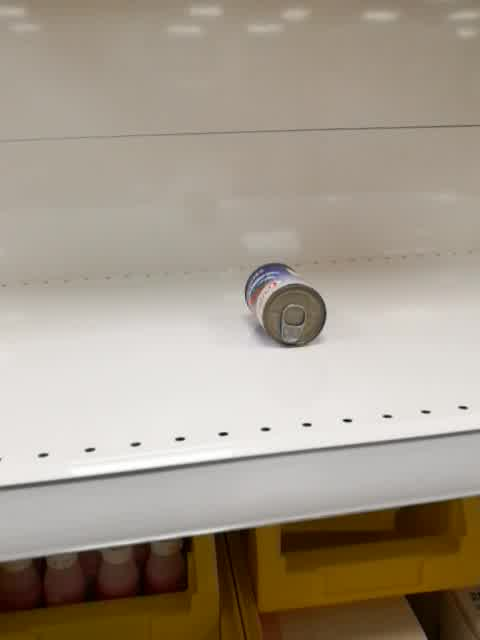sardine: (244, 261, 327, 348)
